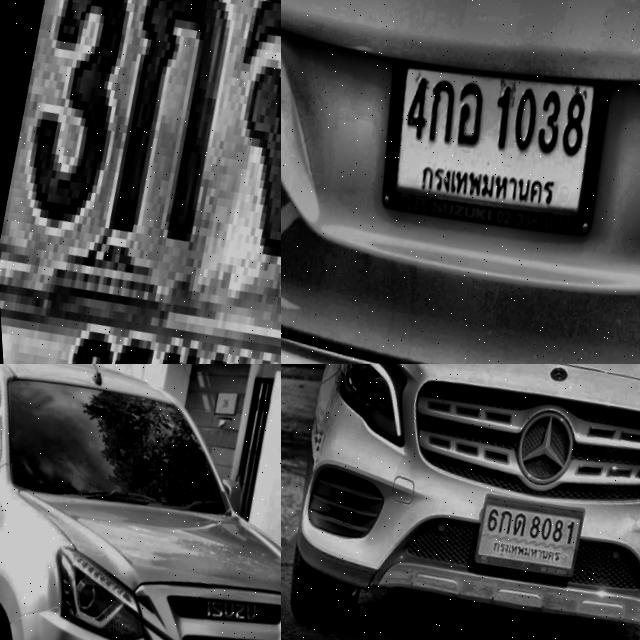license-plate: (0, 0, 281, 364), (353, 24, 623, 262), (459, 486, 584, 590)
